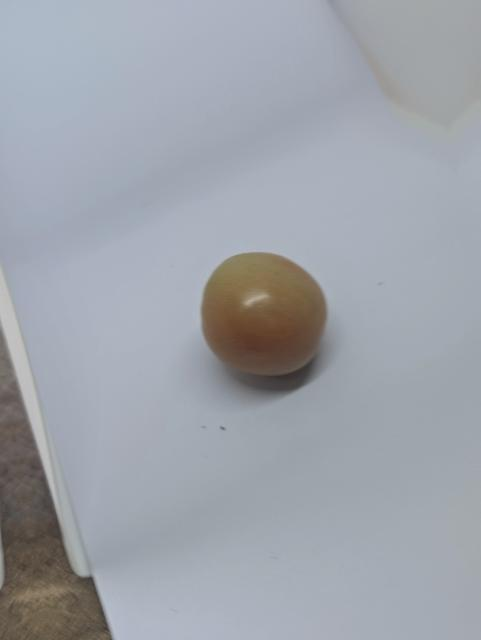turning: (199, 246, 337, 385)
